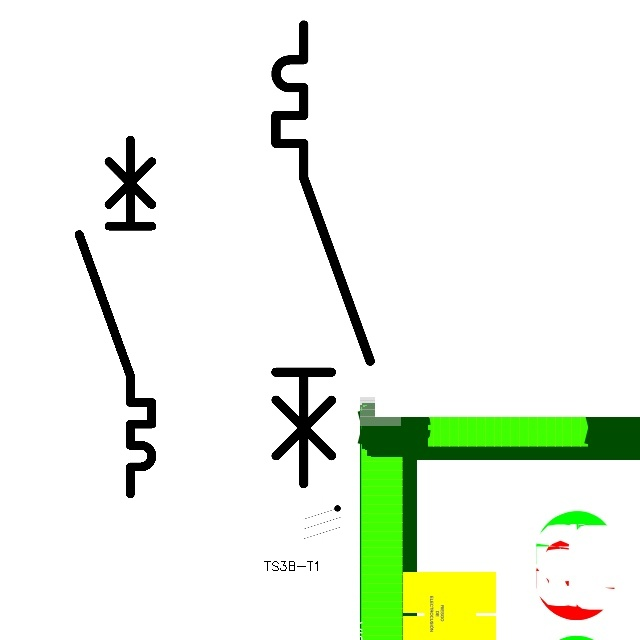interruptor_termomagnetico: (264, 13, 382, 495), (70, 131, 161, 503)
